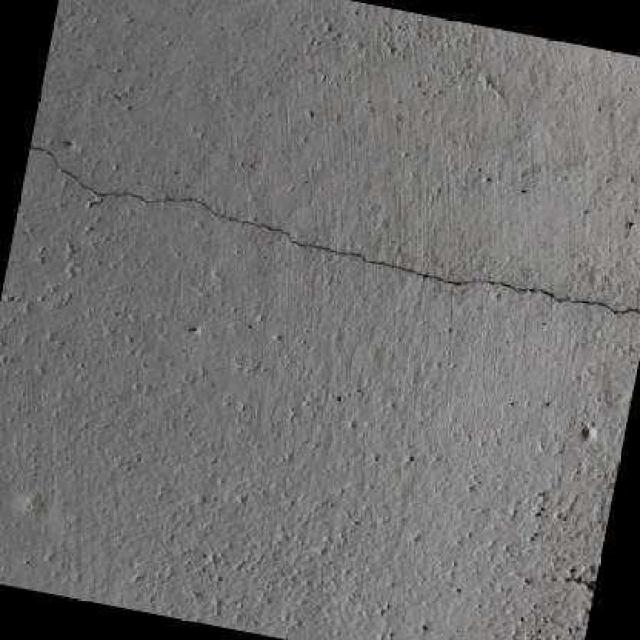D00: (27, 142, 640, 316)
